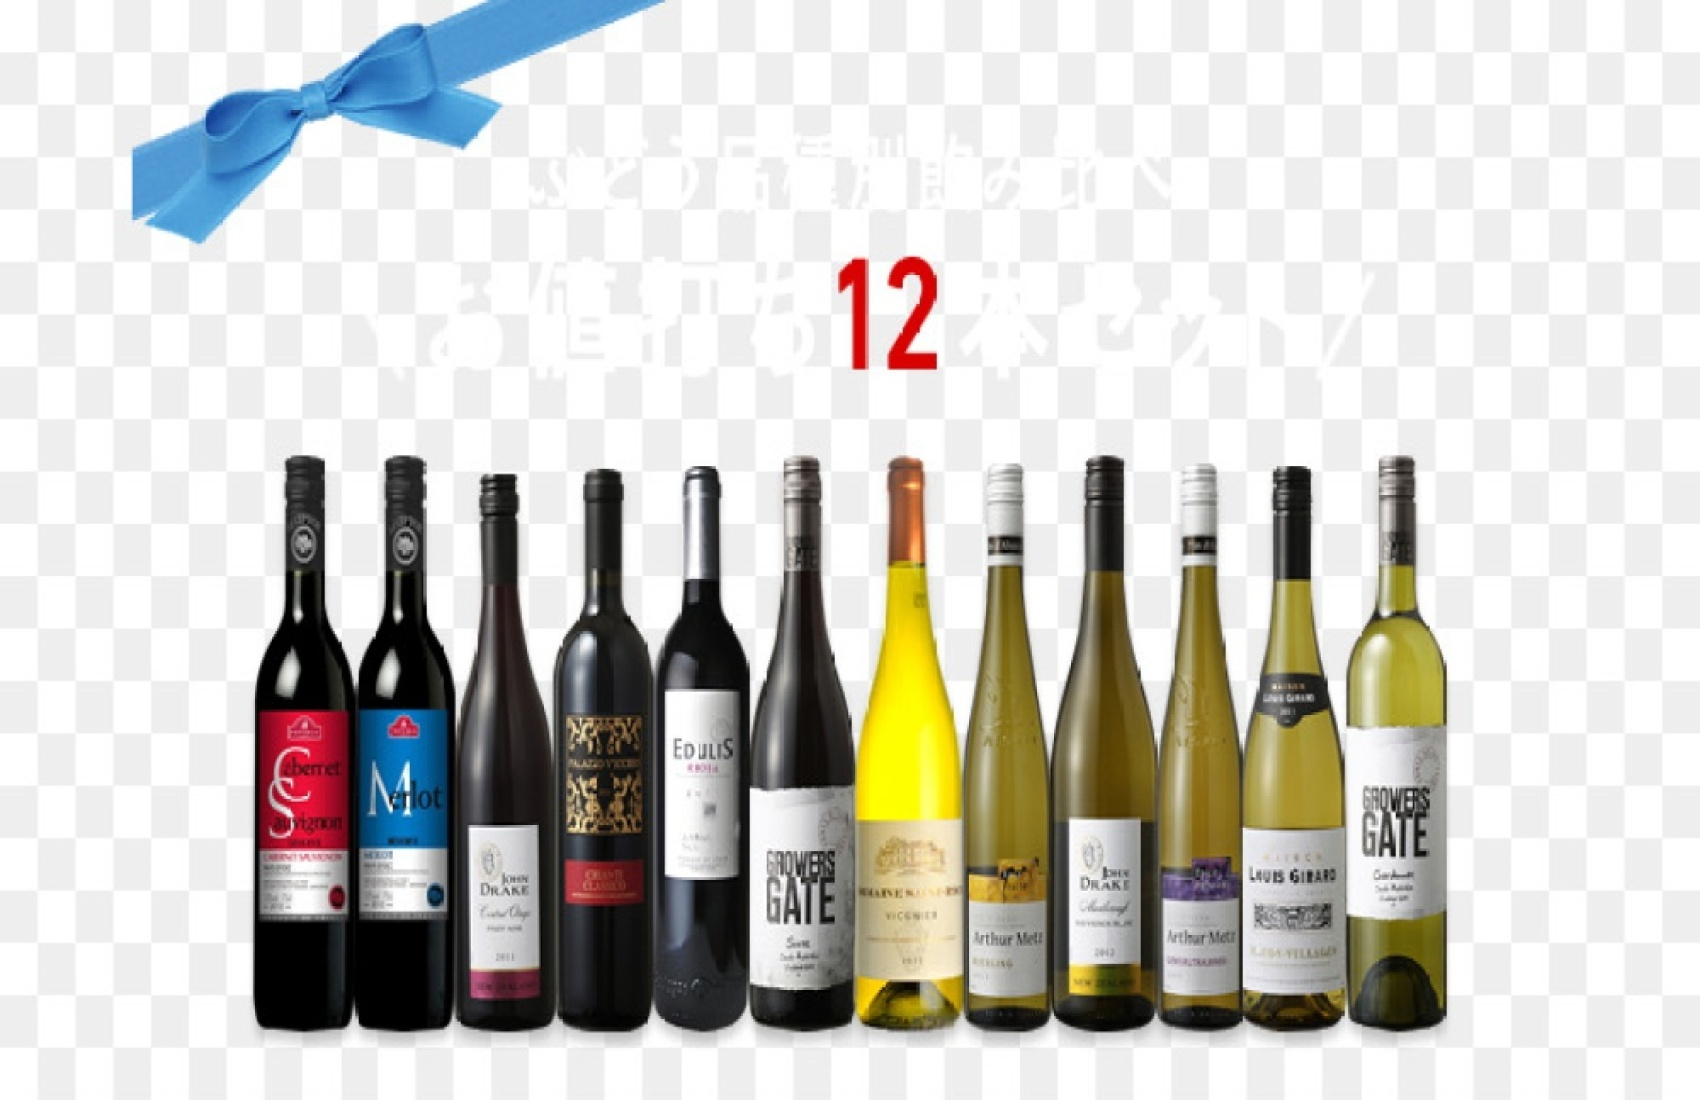wine: (862, 450, 962, 1016), (457, 462, 555, 1028), (658, 465, 756, 1031), (757, 461, 855, 1027), (250, 460, 348, 1024), (346, 460, 444, 1024), (553, 465, 651, 1029), (965, 456, 1053, 1018), (1066, 465, 1154, 1027), (1351, 456, 1439, 1018), (1159, 465, 1247, 1027), (1255, 471, 1343, 1033)
